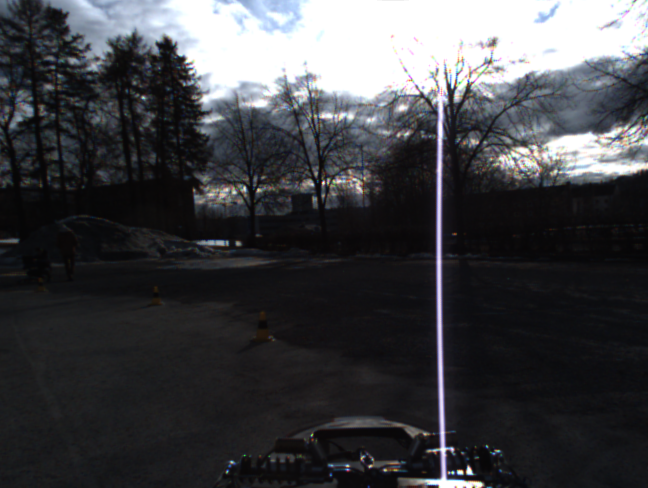cone-small-yellow: (251, 311, 275, 342), (149, 287, 164, 307), (34, 277, 47, 293)
